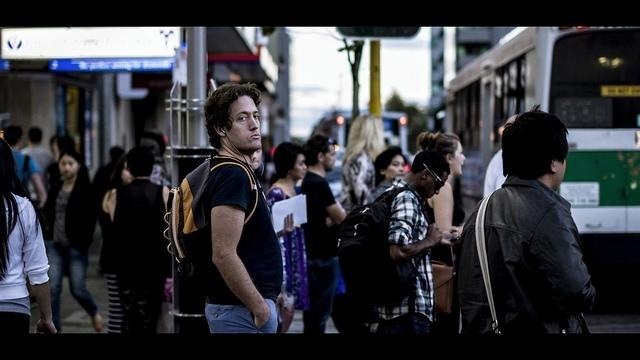bus: (444, 22, 640, 236)
